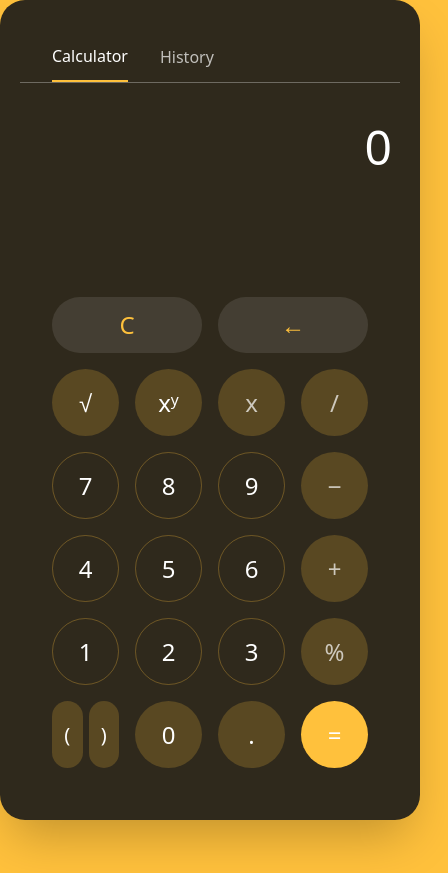
Scenario: Calculator › añade paréntesis y punto decimal al pulsarlos
Click the button "1".
click(86, 652)  # box [52, 618, 119, 685]
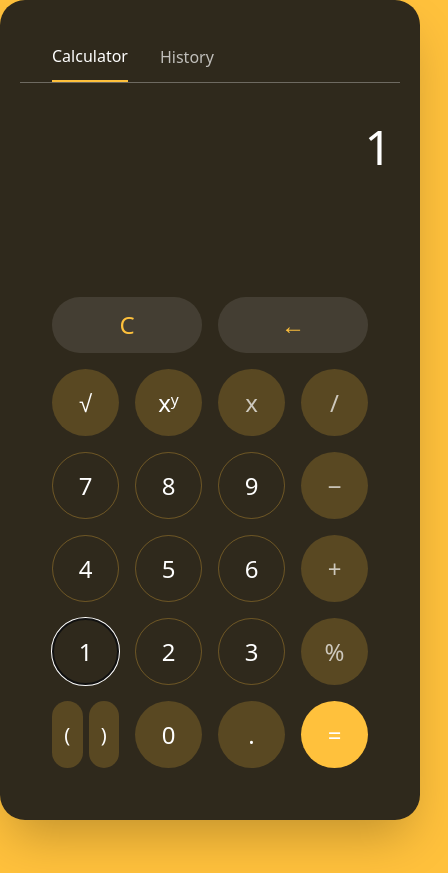
Click the button named "Punto decimal".
click(252, 734)  # box [218, 701, 285, 768]
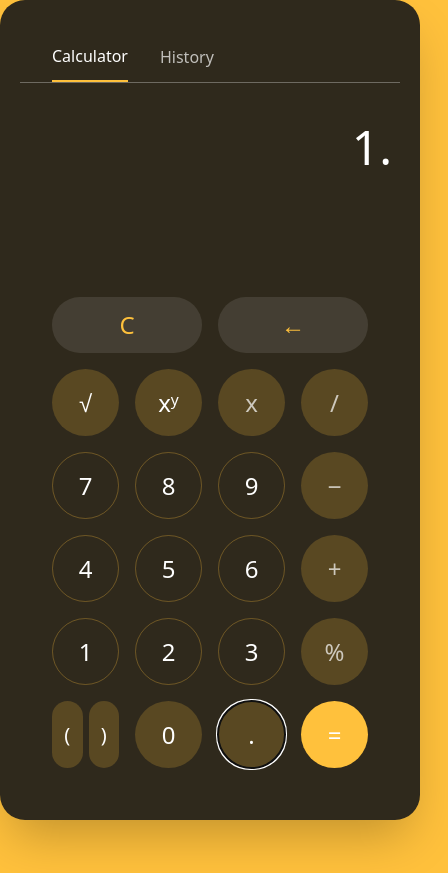
Click the button "5".
click(168, 568)  # box [135, 535, 202, 602]
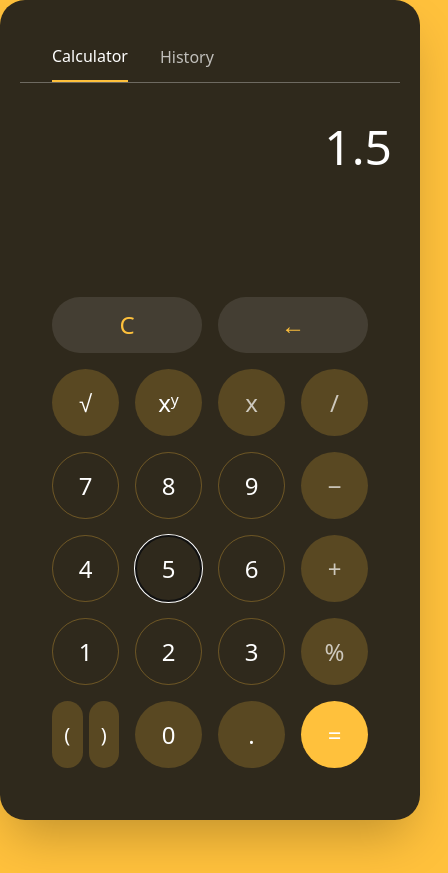
Click the button named "Paréntesis que abre".
click(67, 734)  # box [52, 701, 82, 768]
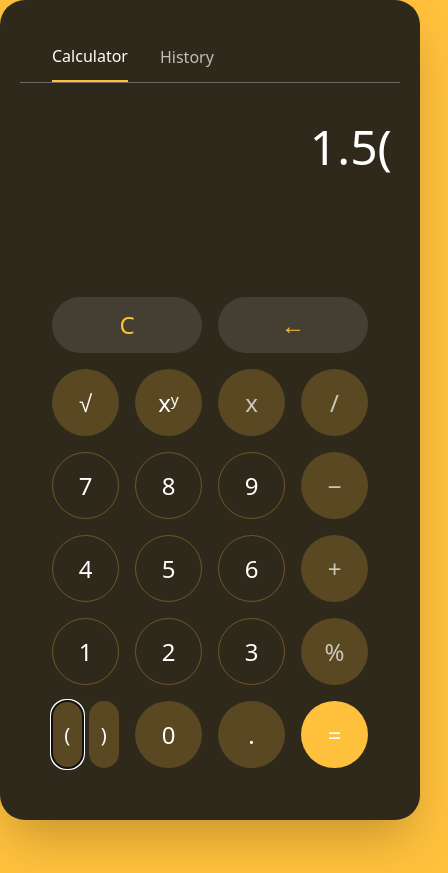
Click the button "2".
click(168, 652)  # box [135, 618, 202, 685]
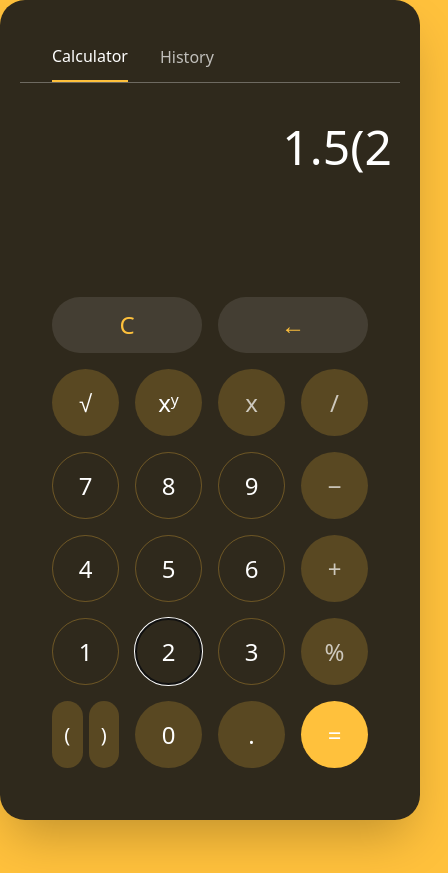
Click the button named "Paréntesis que cierra".
click(104, 734)  # box [88, 701, 119, 768]
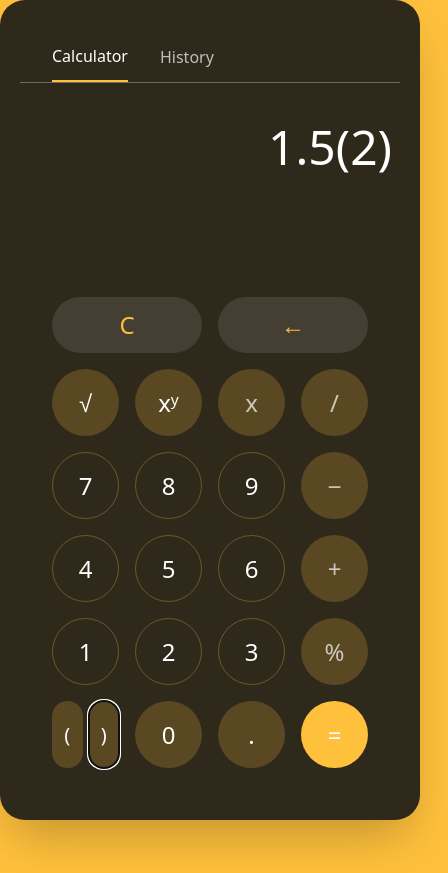
Result: the text named "Expresión" reads "1.5(2)" at [268, 114, 392, 179]
